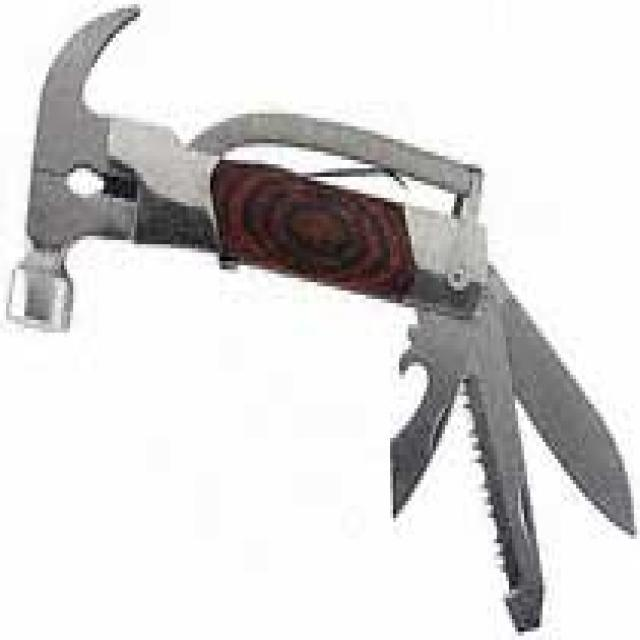hammer: (0, 0, 440, 342)
